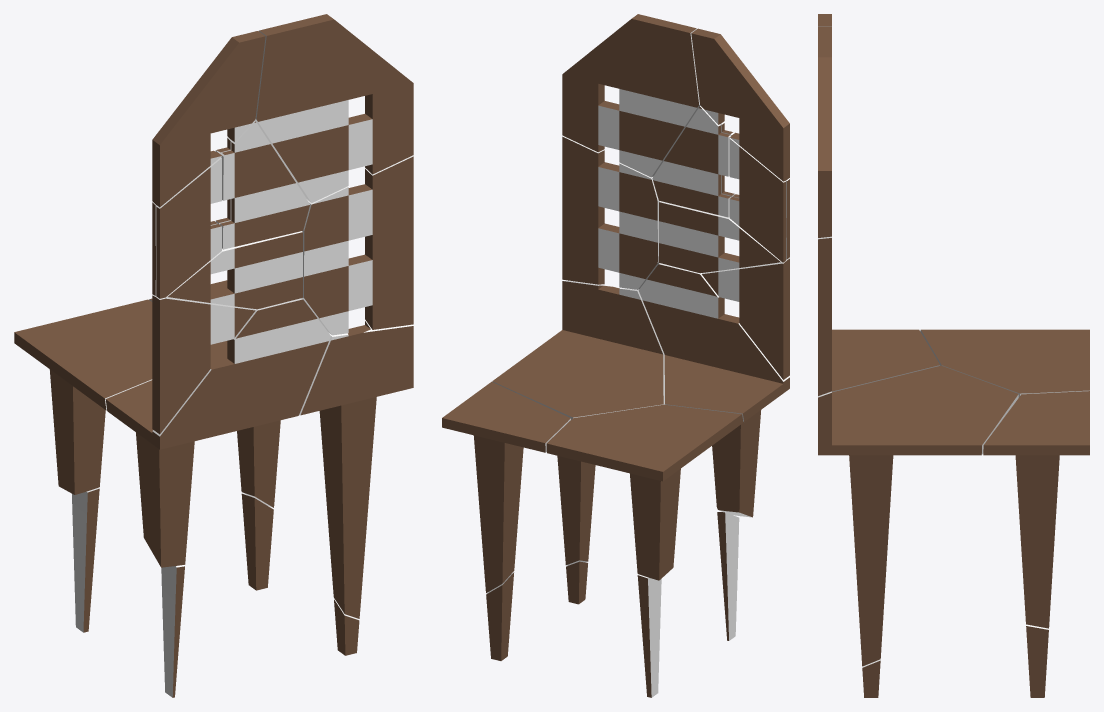
Rendered from Silla_Salón_Roto.fbx.
3 renders of one model, left to right at view 1: azimuth 30°, elevation 25°; view 2: azimuth 150°, elevation 25°; view 3: azimuth 270°, elevation 25°, orthographic. The views are drawn at different scales.
Visible parts, largest first — view 1: Silla_cell.013, Silla_cell.009, Silla_cell.001, Silla_cell.003, Silla_cell.006, Silla_cell.011, Silla_cell.002, Silla_cell.008, Silla_cell.007, Silla_cell.012, Silla_cell, Silla_cell.010; view 2: Silla_cell.001, Silla_cell.013, Silla_cell.009, Silla_cell.006, Silla_cell.003, Silla_cell.010, Silla_cell.011, Silla_cell.002, Silla_cell.004, Silla_cell.008, Silla_cell.012, Silla_cell.014; view 3: Silla_cell.001, Silla_cell.010, Silla_cell.006, Silla_cell.013, Silla_cell.009, Silla_cell.003, Silla_cell.002.
Boxes of the visible parts, <box> form: Silla_cell.013: <box>105,298,330,567</box>; Silla_cell.009: <box>255,14,413,202</box>; Silla_cell.001: <box>210,320,413,618</box>; Silla_cell.003: <box>301,155,413,335</box>; Silla_cell.006: <box>14,299,152,494</box>; Silla_cell.011: <box>152,31,265,207</box>; Silla_cell.002: <box>72,488,359,697</box>; Silla_cell.008: <box>152,295,255,434</box>; Silla_cell.007: <box>220,120,309,249</box>; Silla_cell.012: <box>167,231,302,309</box>; Silla_cell: <box>156,157,221,298</box>; Silla_cell.010: <box>149,280,280,507</box>; Silla_cell.001: <box>492,280,664,565</box>; Silla_cell.013: <box>638,263,789,517</box>; Silla_cell.009: <box>562,14,700,177</box>; Silla_cell.006: <box>546,404,743,580</box>; Silla_cell.003: <box>562,136,659,289</box>; Silla_cell.010: <box>442,381,570,592</box>; Silla_cell.011: <box>691,28,789,181</box>; Silla_cell.002: <box>486,512,739,697</box>; Silla_cell.004: <box>652,106,731,217</box>; Silla_cell.008: <box>701,258,789,379</box>; Silla_cell.012: <box>658,201,781,273</box>; Silla_cell.014: <box>729,138,786,262</box>; Silla_cell.001: <box>818,365,1018,666</box>; Silla_cell.010: <box>983,391,1089,628</box>; Silla_cell.006: <box>920,329,1089,397</box>; Silla_cell.013: <box>832,329,939,392</box>; Silla_cell.009: <box>818,26,831,237</box>; Silla_cell.003: <box>818,236,831,395</box>; Silla_cell.002: <box>862,624,1048,697</box>.
Size of the model in its own units: 37.69 by 94.05 by 37.44.
